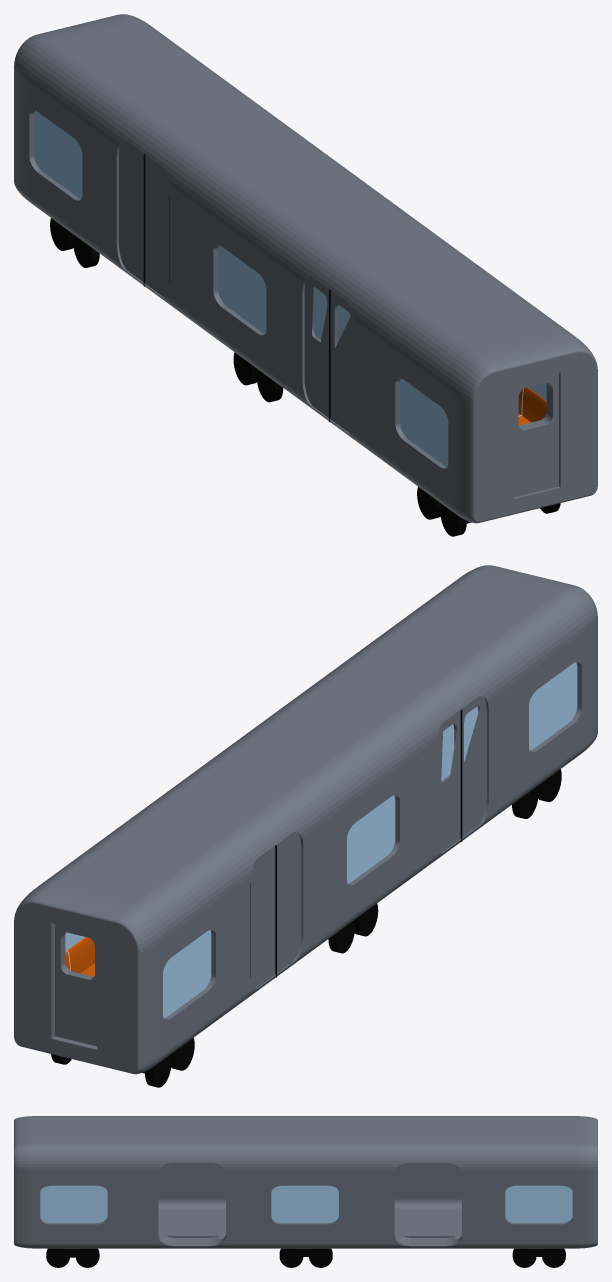
The model's file is bubwayinside.fbx.
3 views of the same model, one above another, from view 1: azimuth 30°, elevation 25°; view 2: azimuth 150°, elevation 25°; view 3: azimuth 270°, elevation 25° (orthographic). The views are drawn at different scales.
Visible parts, largest first — view 1: train; view 2: train; view 3: train.
Part boxes in pixels (x1,y1,x2,y2): train: [14, 14, 597, 536]; train: [14, 565, 597, 1087]; train: [14, 1116, 597, 1267].
Size of the model in its own units: 558 by 767 by 3324.
